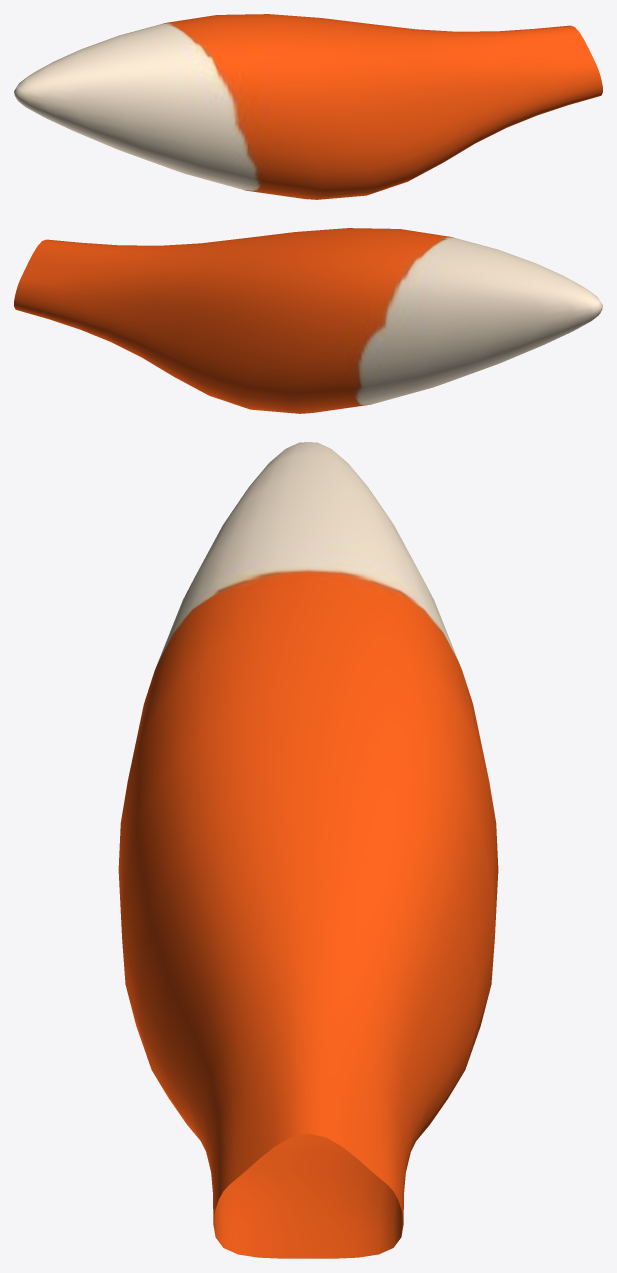
The model's file is Groupe6_Tale.fbx.
3 views of the same model, one above another, from view 1: azimuth 30°, elevation 25°; view 2: azimuth 150°, elevation 25°; view 3: azimuth 270°, elevation 25° (orthographic). The views are drawn at different scales.
Visible parts, largest first — view 1: Cube.001; view 2: Cube.001; view 3: Cube.001.
Part boxes in pixels (x1,y1,x2,y2): Cube.001: (14, 14, 602, 199); Cube.001: (14, 228, 602, 413); Cube.001: (118, 442, 498, 1258).
Size of the model in its own units: 934 by 296 by 272.
1 material, 1 textured.
